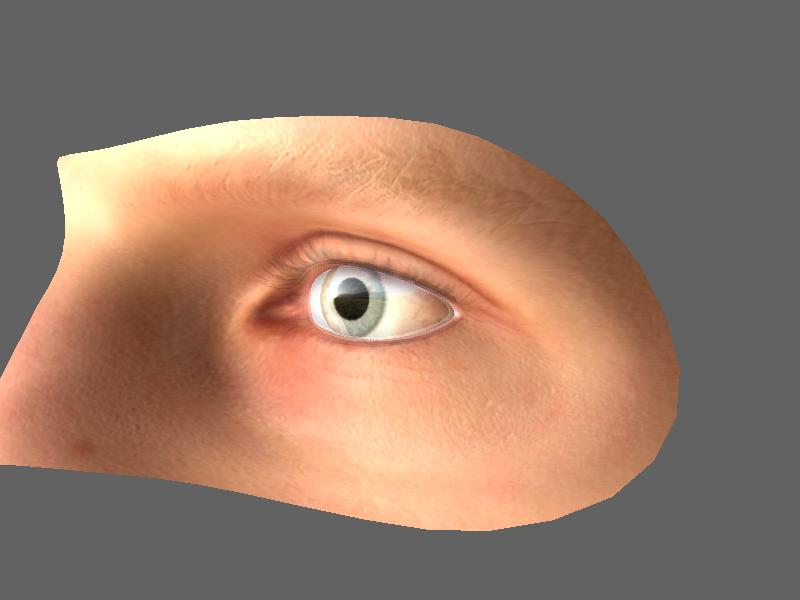iris: (312, 269, 388, 337)
